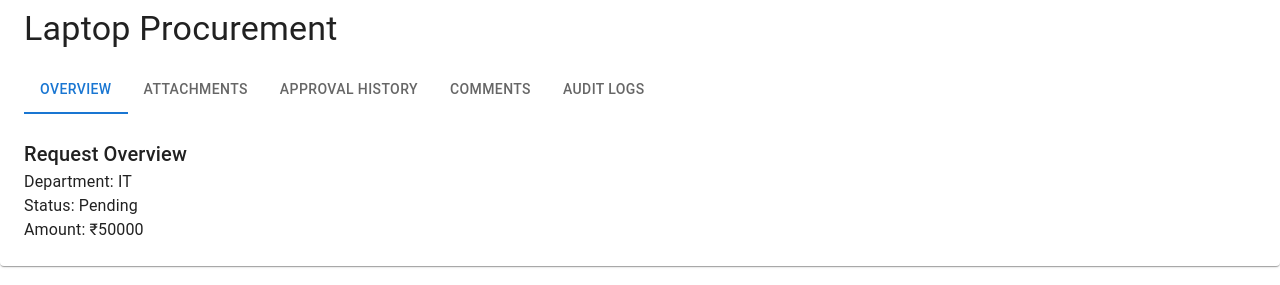
ProcurementDetailsPage › opens comments tab
The width and height of the screenshot is (1280, 285).
Click the tab "Comments". click: (490, 90)
box: top-left (434, 66), bottom-right (547, 114)
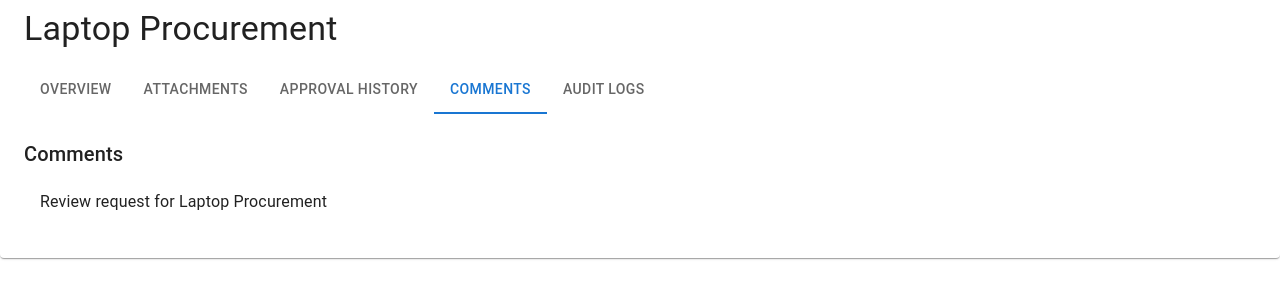
Result: the text "Review request for Laptop Procurement" is shown at top-left (40, 192), bottom-right (327, 211)
